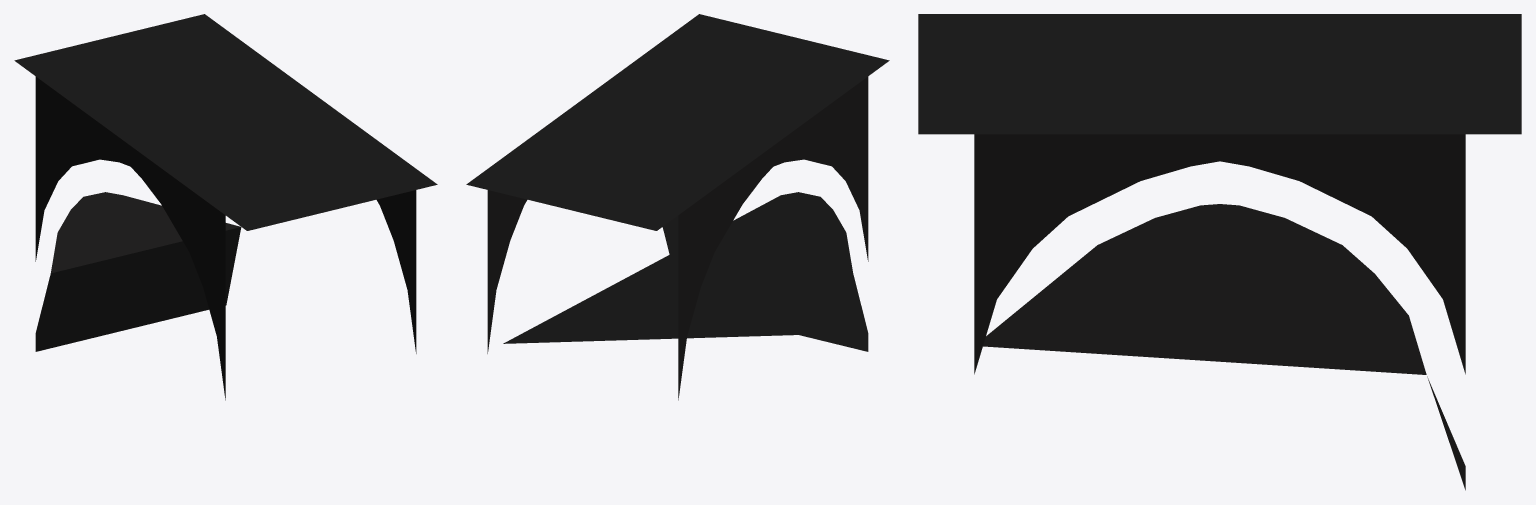
The model's file is BasePuente.fbx.
The picture shows the model from 3 angles, left to right: view 1: azimuth 30°, elevation 25°; view 2: azimuth 150°, elevation 25°; view 3: azimuth 270°, elevation 25°; orthographic projection. The views are drawn at different scales.
Parts seen in each view (by area): view 1: Plano; view 2: Plano; view 3: Plano.
Boxes of the visible parts, x1,y1,x2,y2 form: Plano: (14, 14, 437, 400); Plano: (466, 14, 889, 400); Plano: (918, 14, 1521, 490).
Size of the model in its own units: 92.69 by 128 by 196.
1 material, 1 textured.
